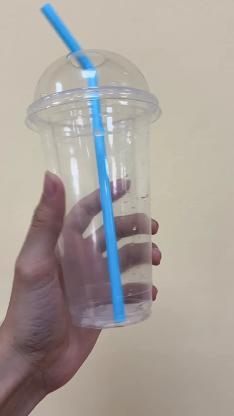Plastic Cup: (28, 46, 156, 324)
